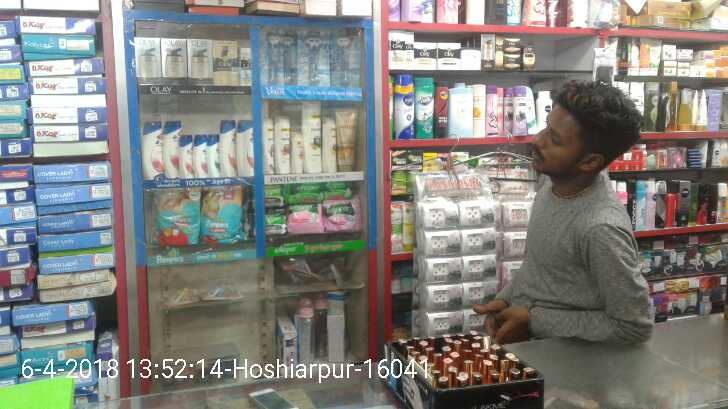venus: (299, 30, 331, 86), (266, 30, 299, 82), (331, 34, 360, 86)
